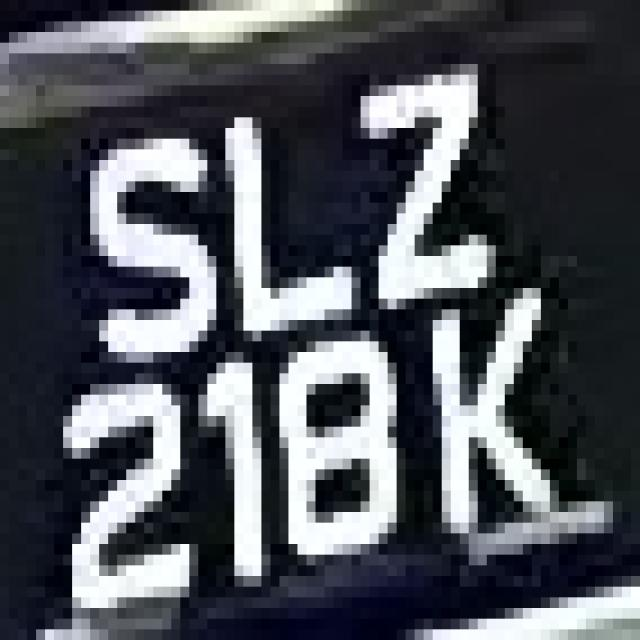1: (172, 352, 298, 597)
2: (45, 373, 207, 630)
8: (253, 309, 397, 608)
K: (415, 267, 577, 576)
L: (217, 86, 361, 342)
S: (63, 96, 216, 405)
Z: (333, 42, 496, 298)
